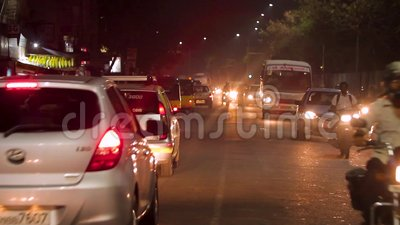bike: (364, 73, 400, 225), (335, 84, 355, 158)
car: (1, 77, 157, 225), (117, 81, 179, 176), (297, 87, 362, 142), (192, 86, 213, 108)
rickshaw: (161, 79, 192, 115)
